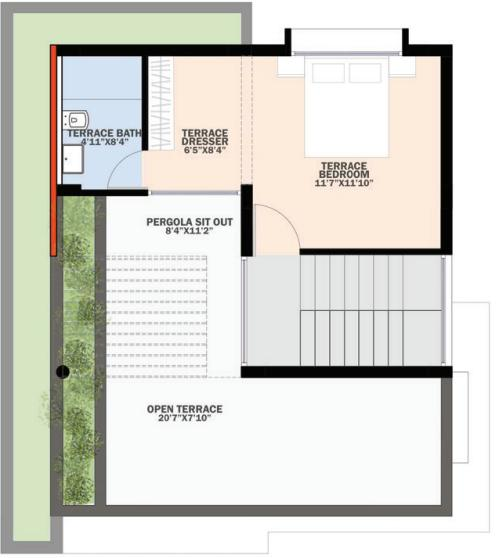Bed: (305, 57, 388, 159)
Bedroom: (246, 55, 443, 248)
Terrace: (98, 196, 446, 507)
Wardrobe: (152, 59, 172, 153)
commode: (62, 110, 90, 129)
door: (255, 206, 302, 255), (104, 150, 150, 192)
dress: (152, 57, 248, 192)
sink: (62, 145, 85, 175)
toilet: (58, 49, 149, 191)
